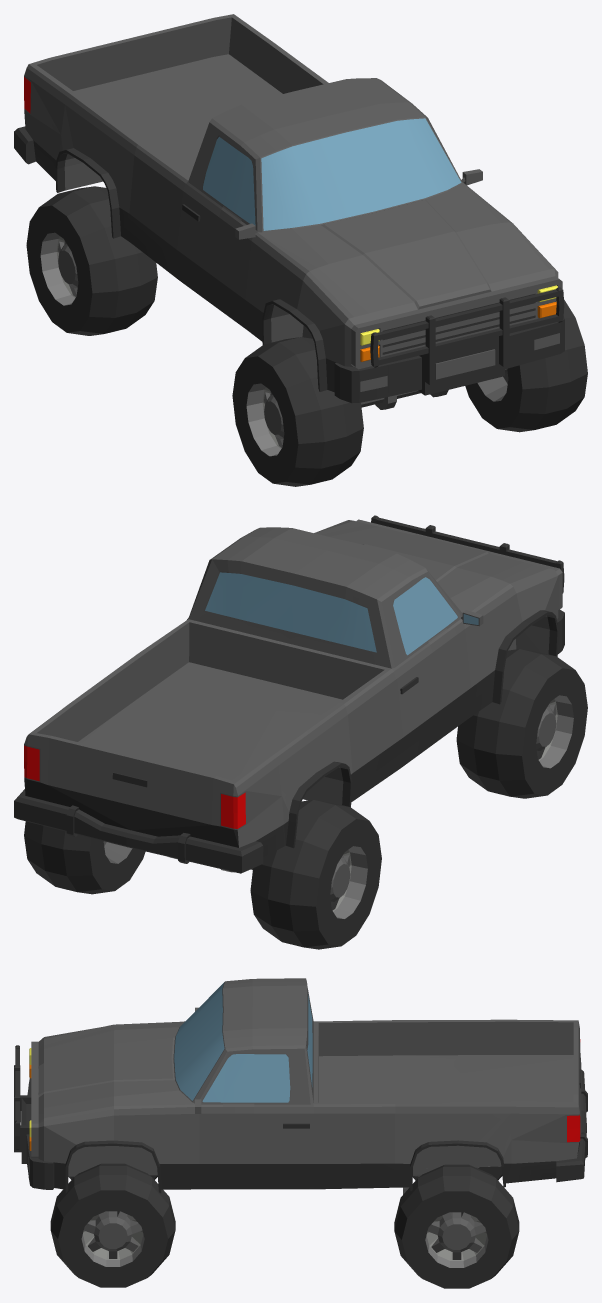
File: Monster Truck_12.fbx
3 views of the same model, one above another, from view 1: azimuth 30°, elevation 25°; view 2: azimuth 150°, elevation 25°; view 3: azimuth 270°, elevation 25° (orthographic). The views are drawn at different scales.
Visible parts, largest first — view 1: Monster Truck_12 BL Tire; view 2: Monster Truck_12 BL Tire; view 3: Monster Truck_12 BL Tire.
Part boxes in pixels (x1,y1,x2,y2): Monster Truck_12 BL Tire: (14, 14, 587, 486); Monster Truck_12 BL Tire: (14, 515, 587, 949); Monster Truck_12 BL Tire: (14, 978, 587, 1288).
Size of the model in its own units: 297 by 267 by 607.
Materials: 1 (1 with a texture image).
